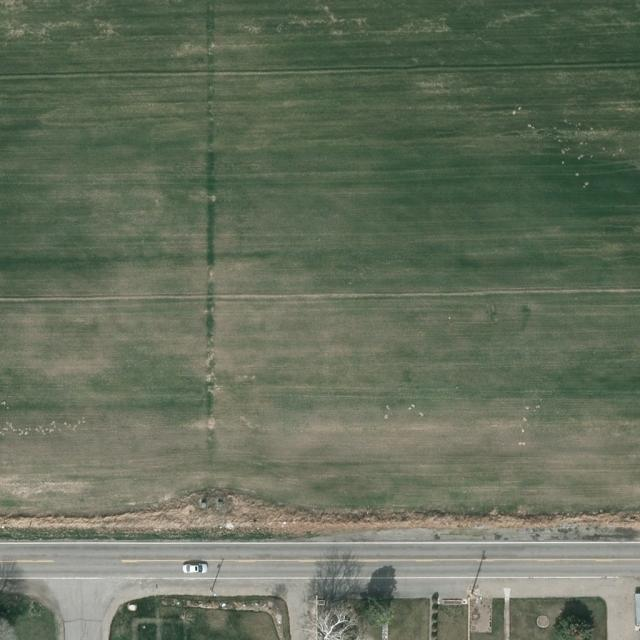vehicle: (182, 564, 209, 574)
